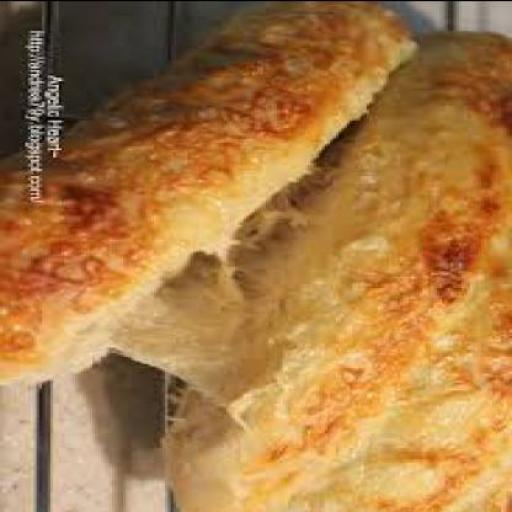biodegradable: (108, 24, 511, 510), (3, 0, 417, 380)
